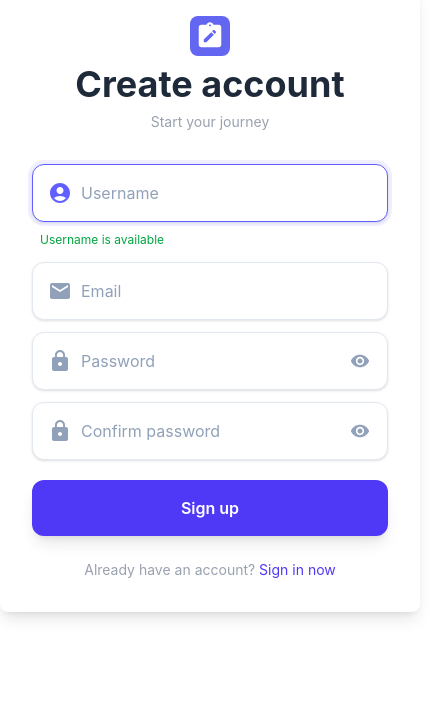
RegisterCard › validation: shows error when passwords do not match
In the password field with placeholder "Password": (210, 361) [32,332,388,390], type "password123"
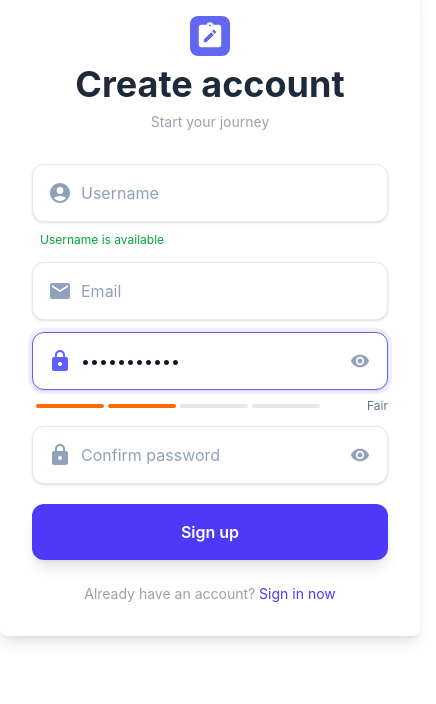
In the password field with placeholder "Confirm password": (210, 455) [32,426,388,484], type "different123"
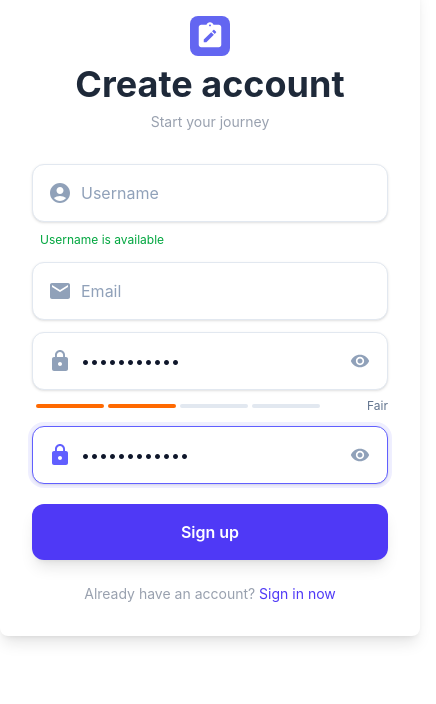
Click the button "Sign up": (210, 532) [32,504,388,560]
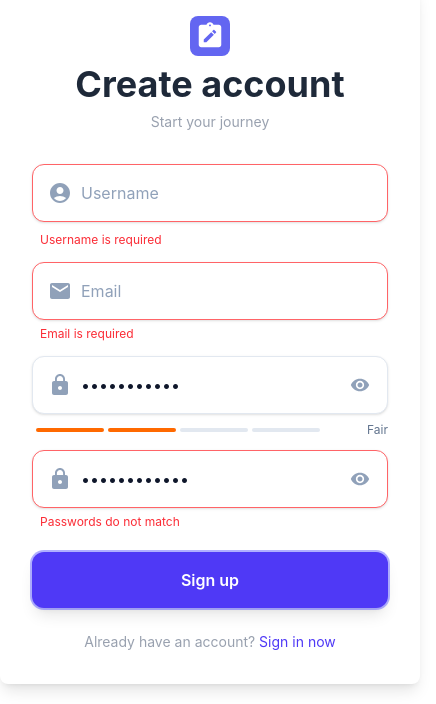
Expected: the text "Passwords do not match" is shown, [40,514,180,529]
